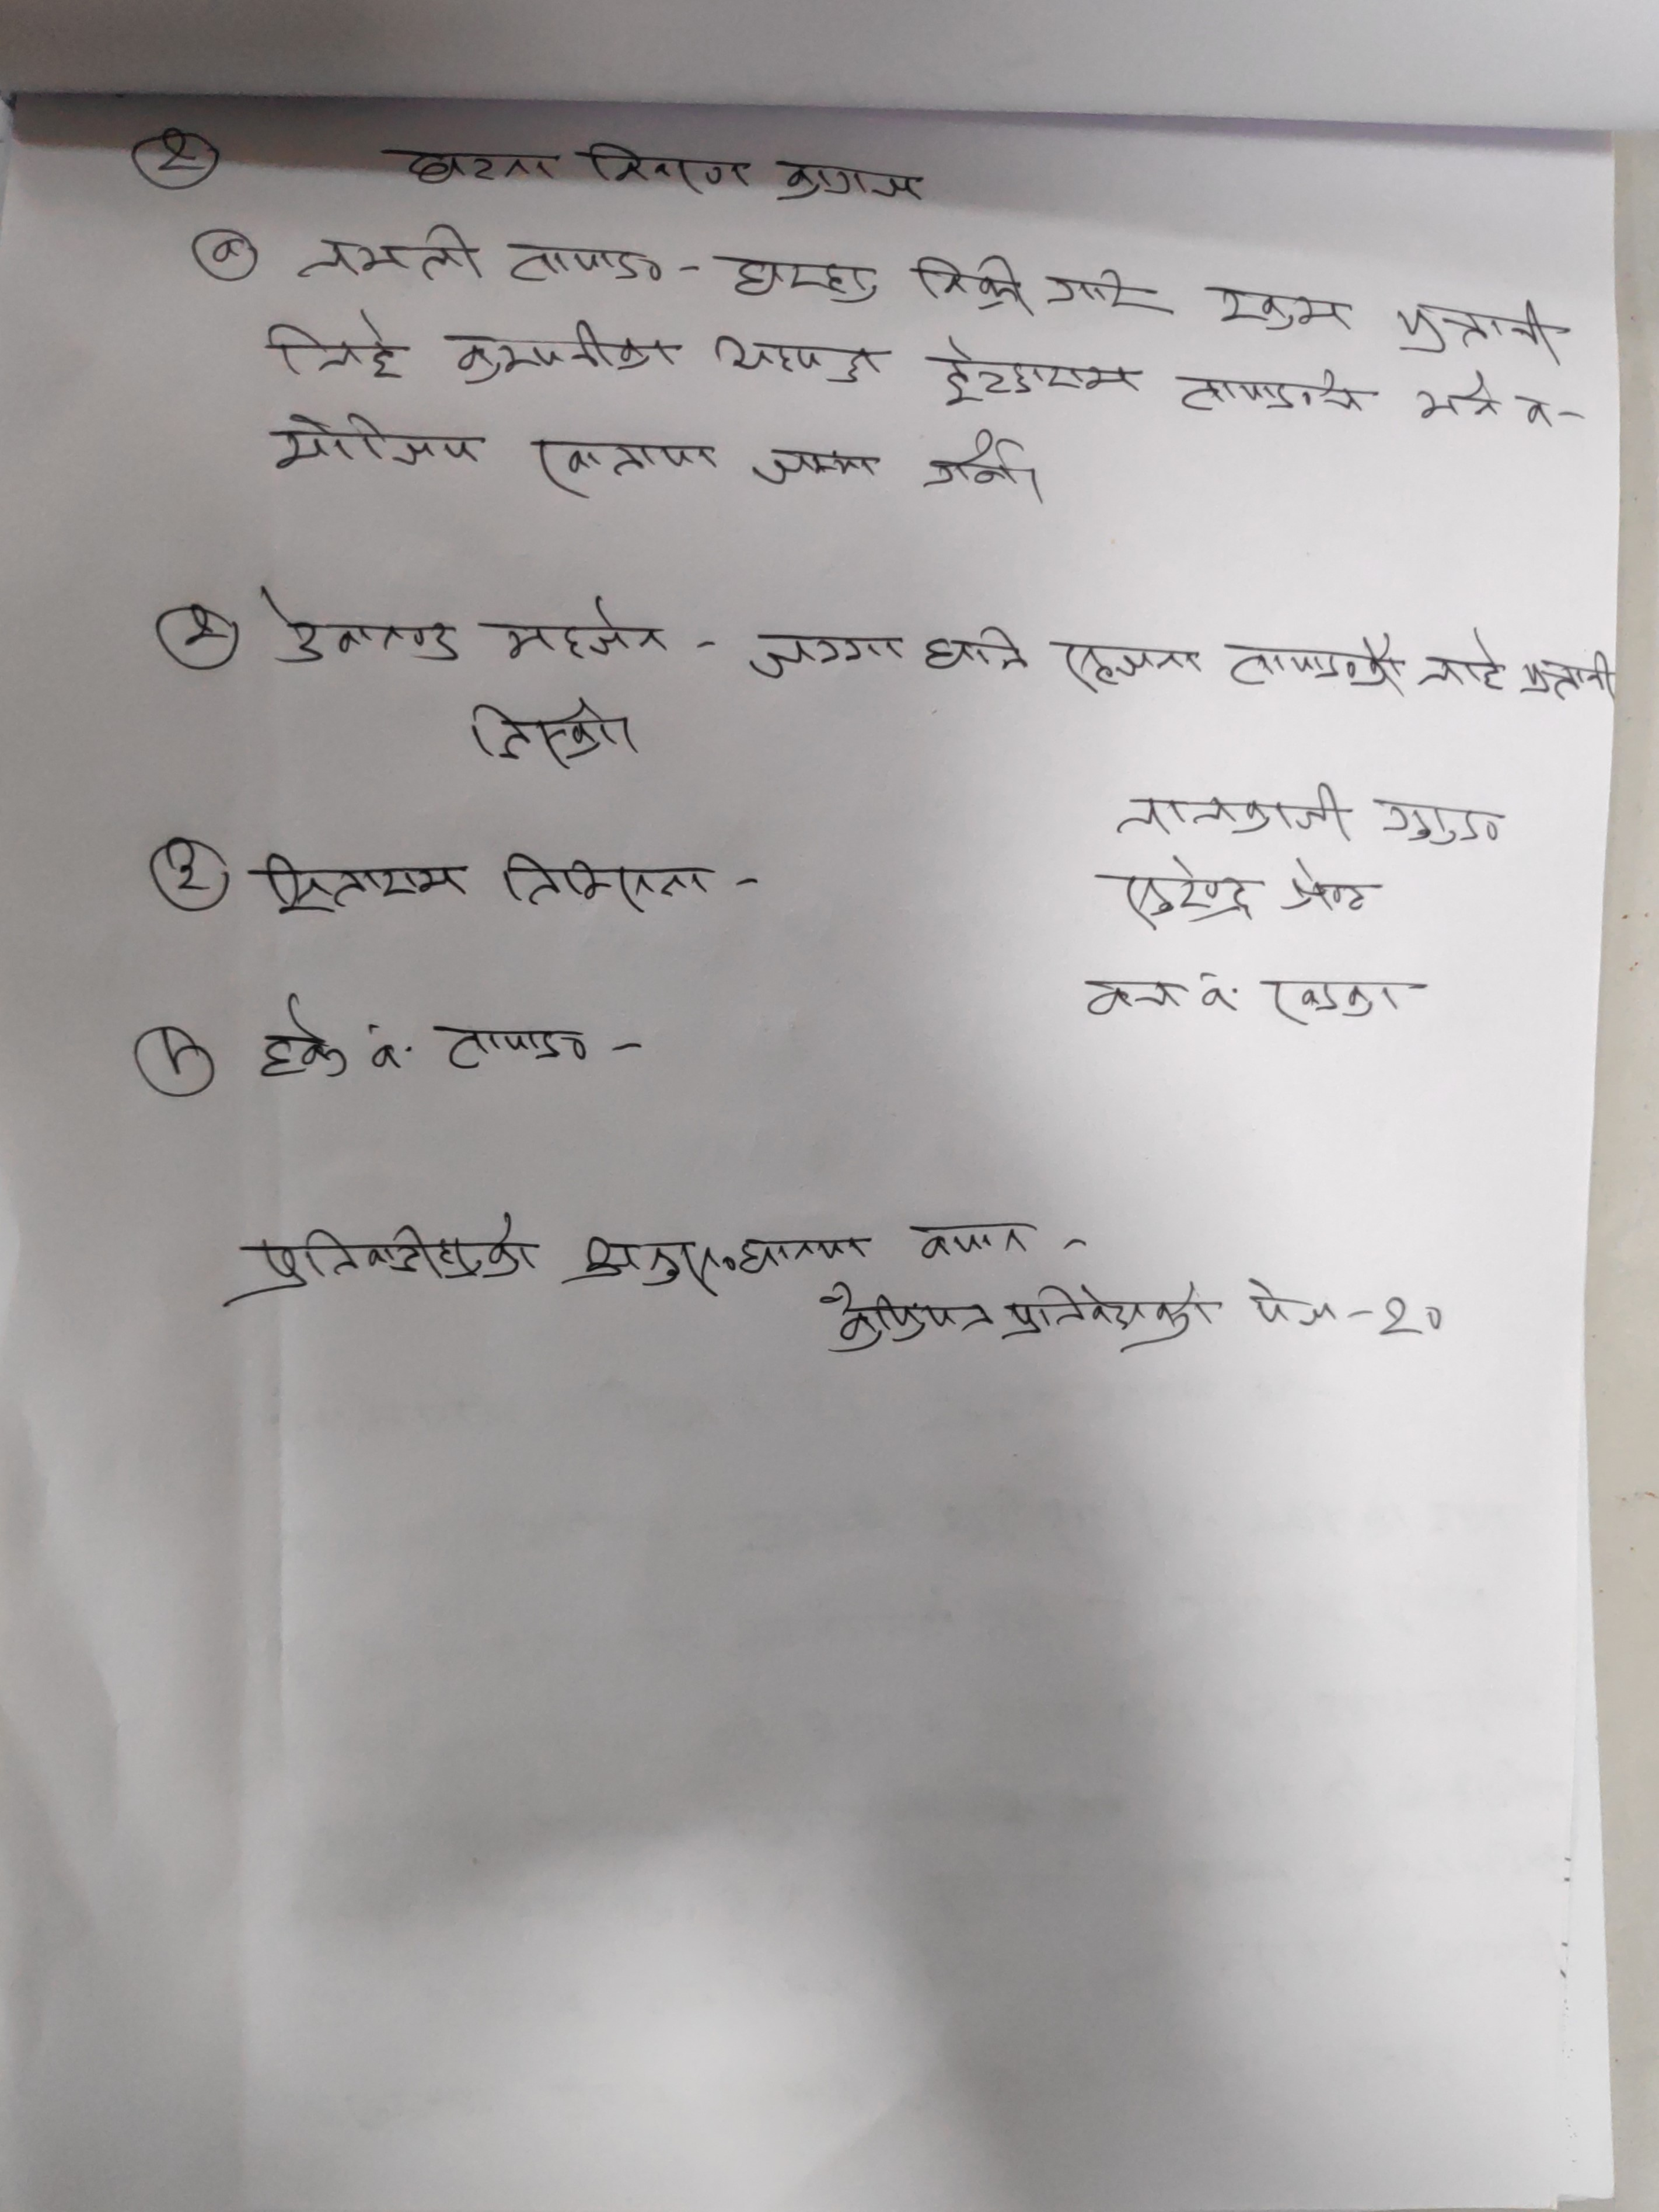text: (230, 1211, 537, 1306), (254, 583, 462, 667), (443, 317, 678, 388), (570, 1230, 868, 1285), (1117, 775, 1352, 843), (1000, 1280, 1218, 1352), (258, 852, 471, 920), (936, 338, 1138, 409), (265, 409, 486, 474), (495, 852, 713, 914), (819, 1277, 999, 1352), (486, 596, 671, 665), (465, 697, 640, 770), (533, 434, 720, 502), (1220, 629, 1403, 697), (298, 221, 479, 289), (1396, 300, 1565, 364), (580, 136, 753, 199), (263, 307, 406, 381), (1105, 857, 1262, 925), (1173, 364, 1364, 416), (749, 622, 904, 685), (713, 331, 880, 388), (716, 247, 882, 305), (260, 986, 354, 1087), (504, 233, 664, 289), (434, 1019, 591, 1073), (911, 253, 1035, 320), (769, 157, 929, 209), (1049, 637, 1202, 691), (1209, 280, 1354, 333), (396, 148, 561, 193), (1040, 265, 1178, 319), (924, 622, 1030, 685), (1279, 853, 1380, 918), (922, 428, 1021, 493), (1377, 796, 1507, 845), (1415, 629, 1504, 698), (753, 446, 884, 493), (1267, 977, 1413, 1019), (906, 1219, 1039, 1264), (1244, 1273, 1338, 1334), (1514, 650, 1617, 700), (1415, 366, 1499, 427), (1087, 974, 1185, 1021), (179, 601, 223, 650), (1197, 974, 1239, 1022), (207, 237, 242, 270)
